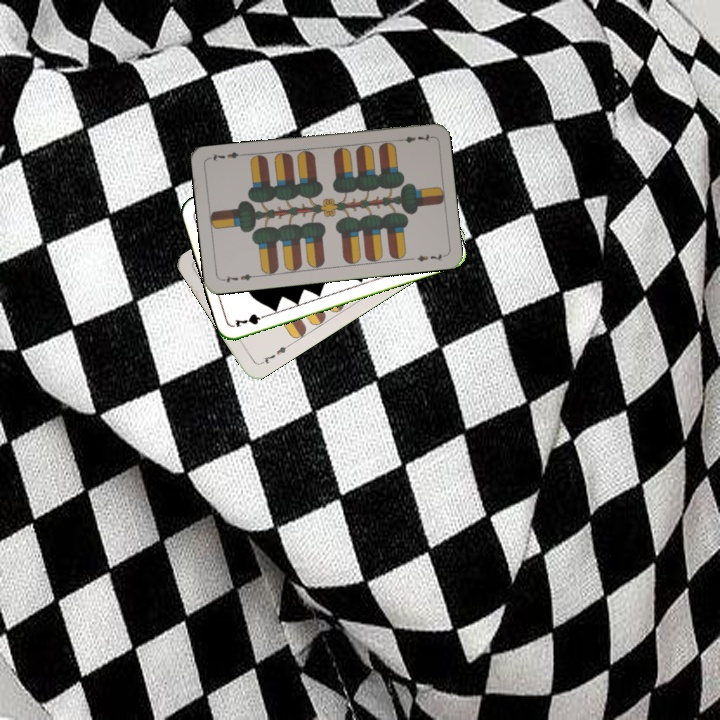E7: (256, 341, 292, 367), (218, 270, 259, 285), (393, 130, 434, 145)
G7: (231, 310, 271, 329)
